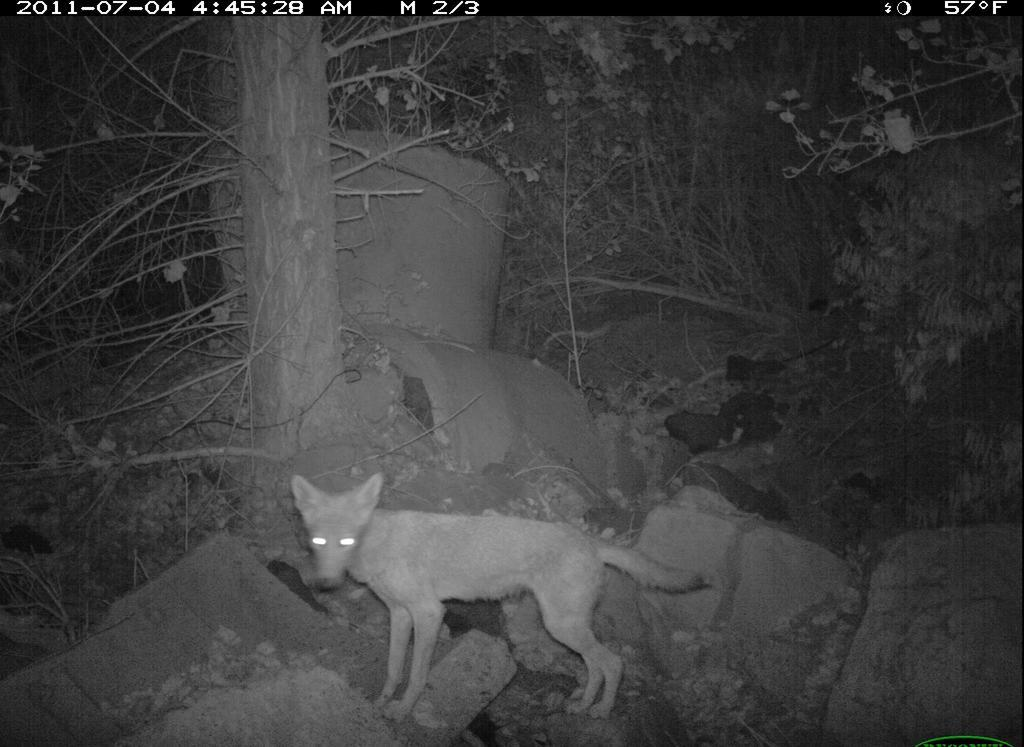coyote: (285, 461, 717, 728)
